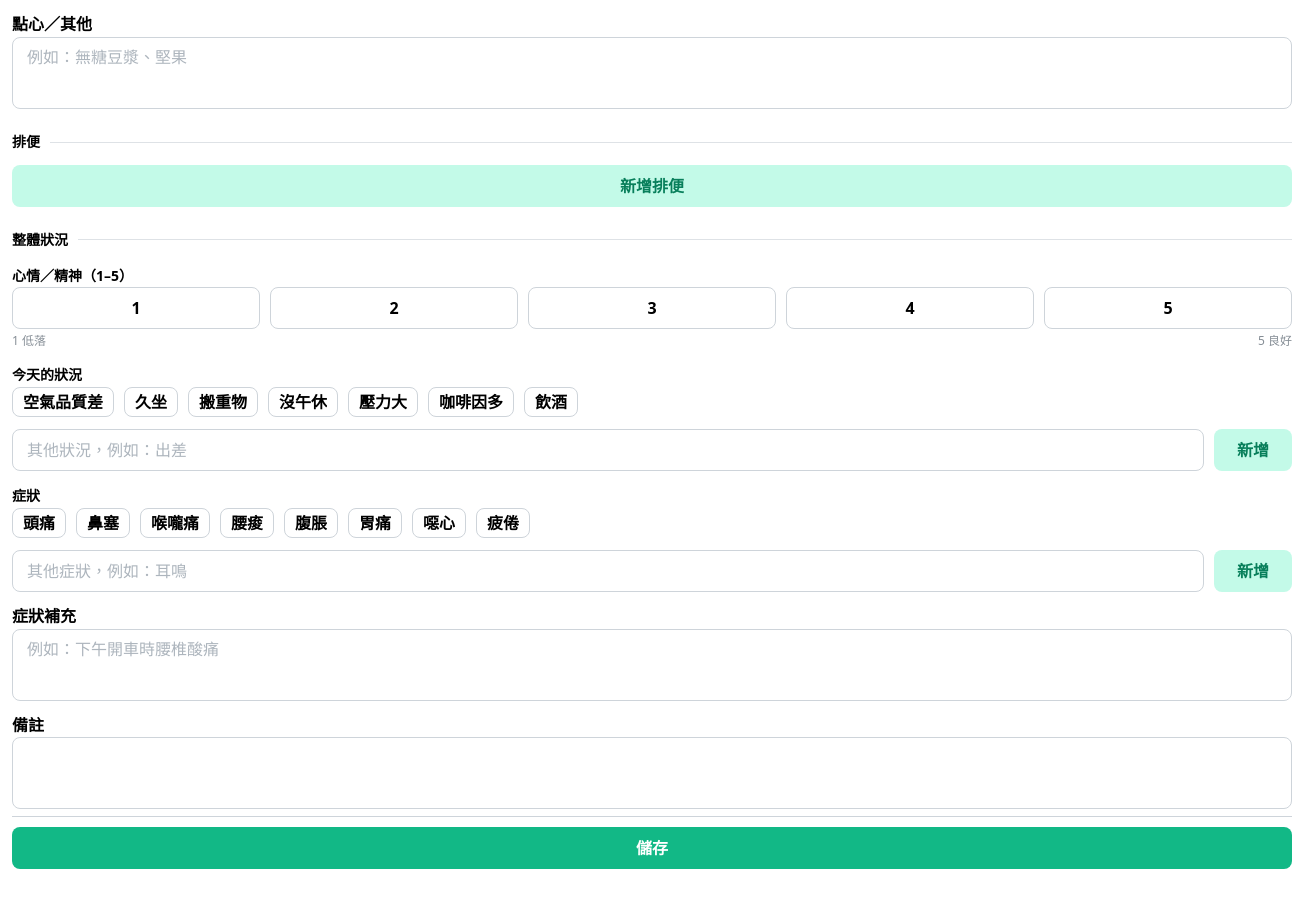
it: EntryForm：運動與今天的狀況 › 標籤與症狀是兩組各自獨立的新增欄位，不會互相加到對方
(page scrolled)
Type "出差" into the field named "新增其他狀況". click: (608, 450)
box: [12, 429, 1204, 471]
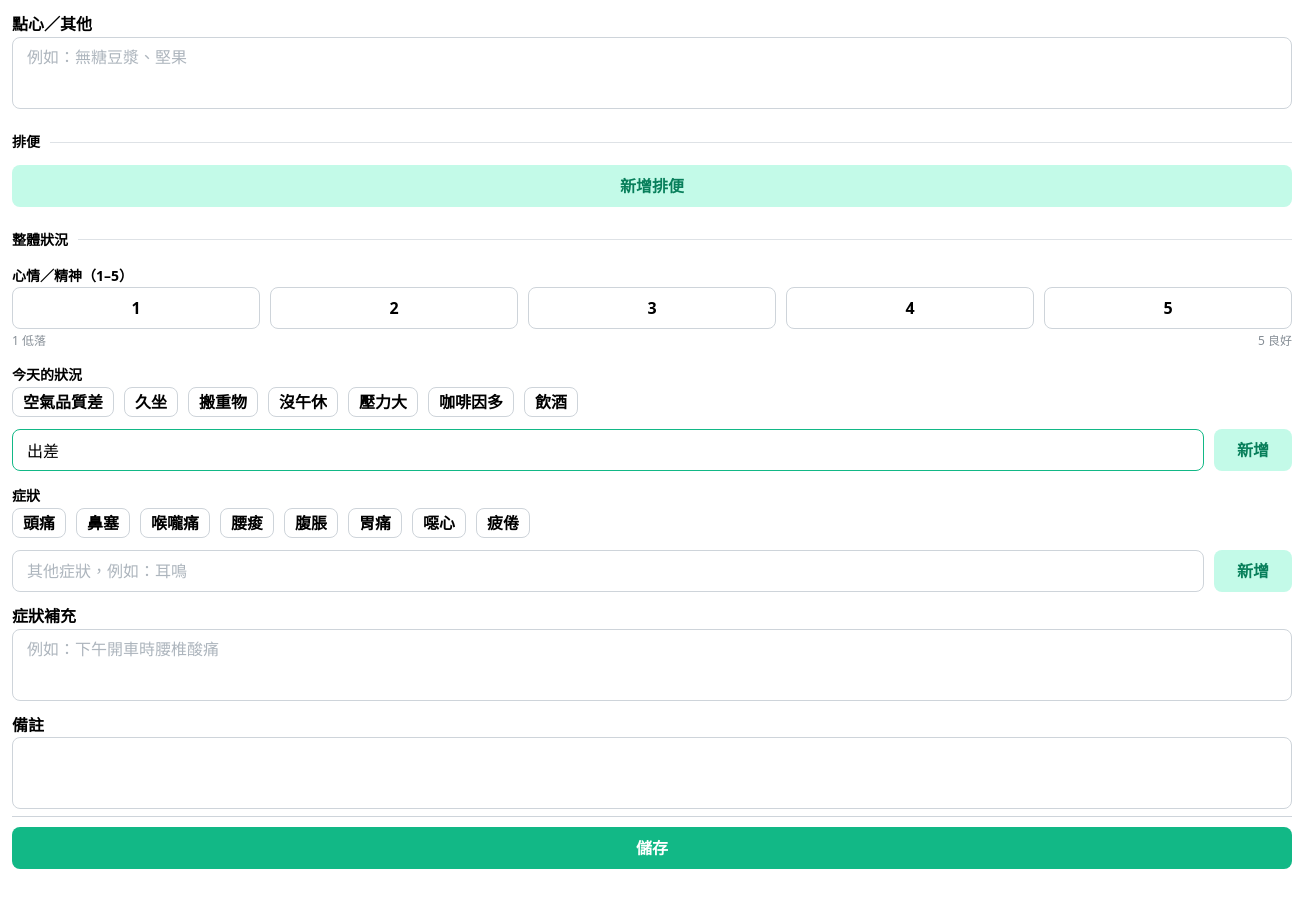
Click the button with aria-label "新增狀況". click: (1253, 450)
box: [1214, 429, 1292, 471]
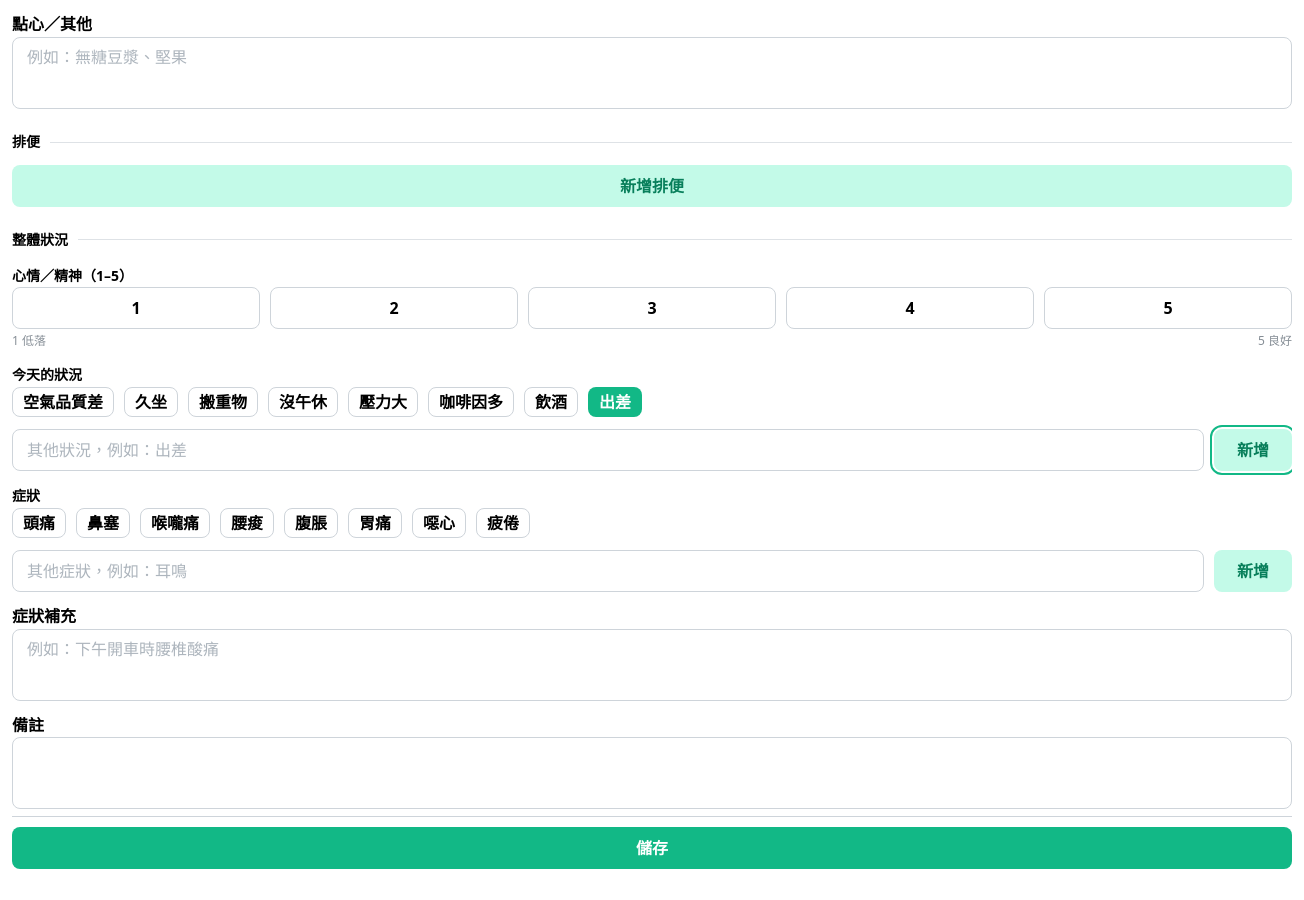
Now the button "出差" is shown, box [588, 387, 642, 417]
